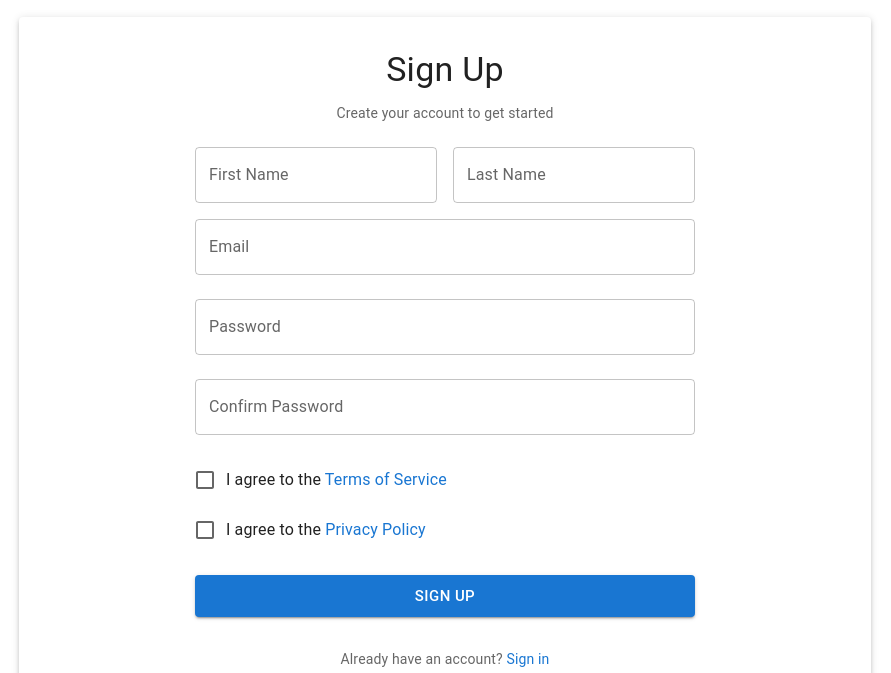
Test: RegisterPage - Integration Tests › Form Validation › should show validation errors when submitting empty form
Click the button "Sign Up" at {"x": 445, "y": 596}, box x1=195 y1=575 x2=695 y2=617
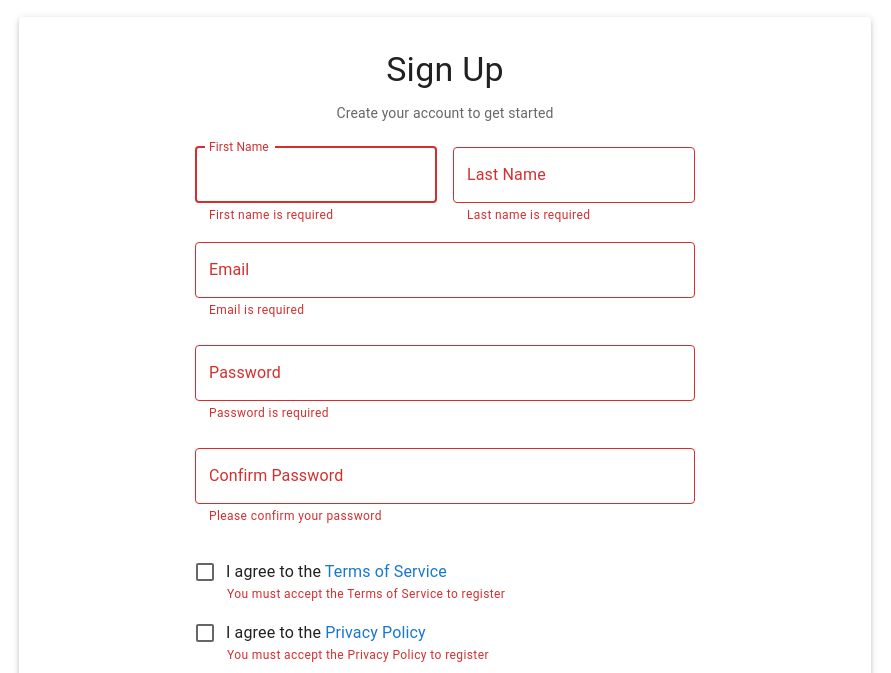
Now the text "First name is required" is shown, box x1=209 y1=208 x2=333 y2=222
Now the text "Last name is required" is shown, box x1=467 y1=208 x2=590 y2=222
Now the text "Email is required" is shown, box x1=209 y1=303 x2=304 y2=317
